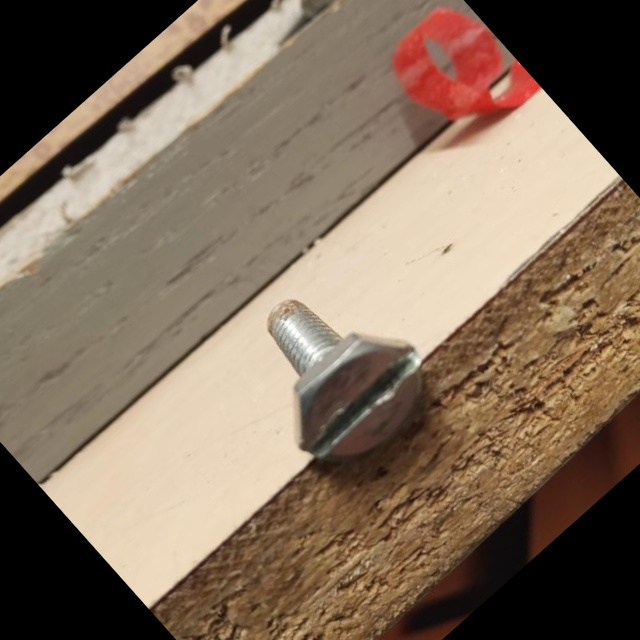duz: (262, 305, 452, 492)
